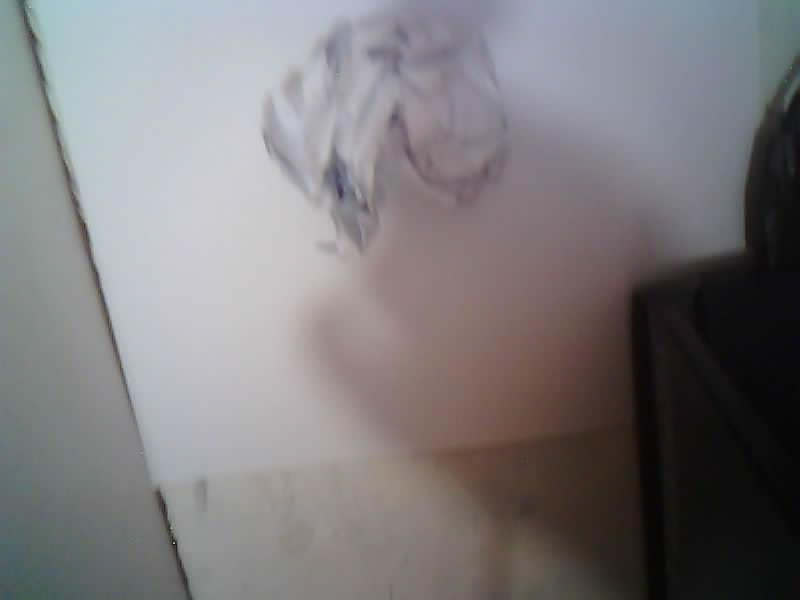biodegradable: (262, 13, 507, 252)
